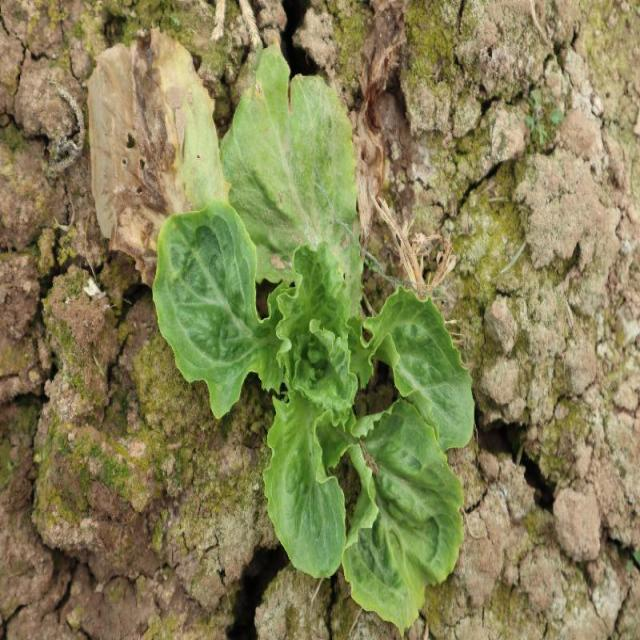crop: (153, 49, 476, 630)
